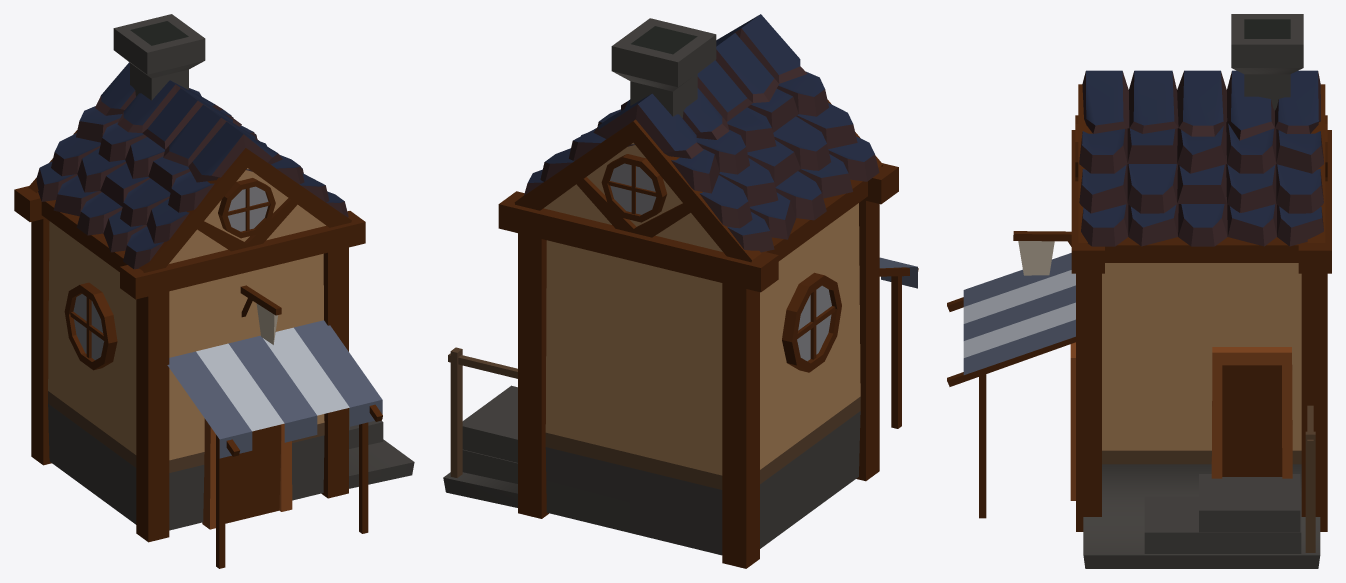
The model's file is SM_Shop_T1.fbx.
3 views of the same model, side by side, from view 1: azimuth 30°, elevation 25°; view 2: azimuth 150°, elevation 25°; view 3: azimuth 270°, elevation 25° (orthographic). The views are drawn at different scales.
Visible parts, largest first — view 1: SM_Shop_T1; view 2: SM_Shop_T1; view 3: SM_Shop_T1.
Part boxes in pixels (<box>): SM_Shop_T1: <box>14,14,414,568</box>; SM_Shop_T1: <box>443,14,918,568</box>; SM_Shop_T1: <box>947,14,1331,568</box>.
Size of the model in its own units: 78.6 by 111 by 85.78.
